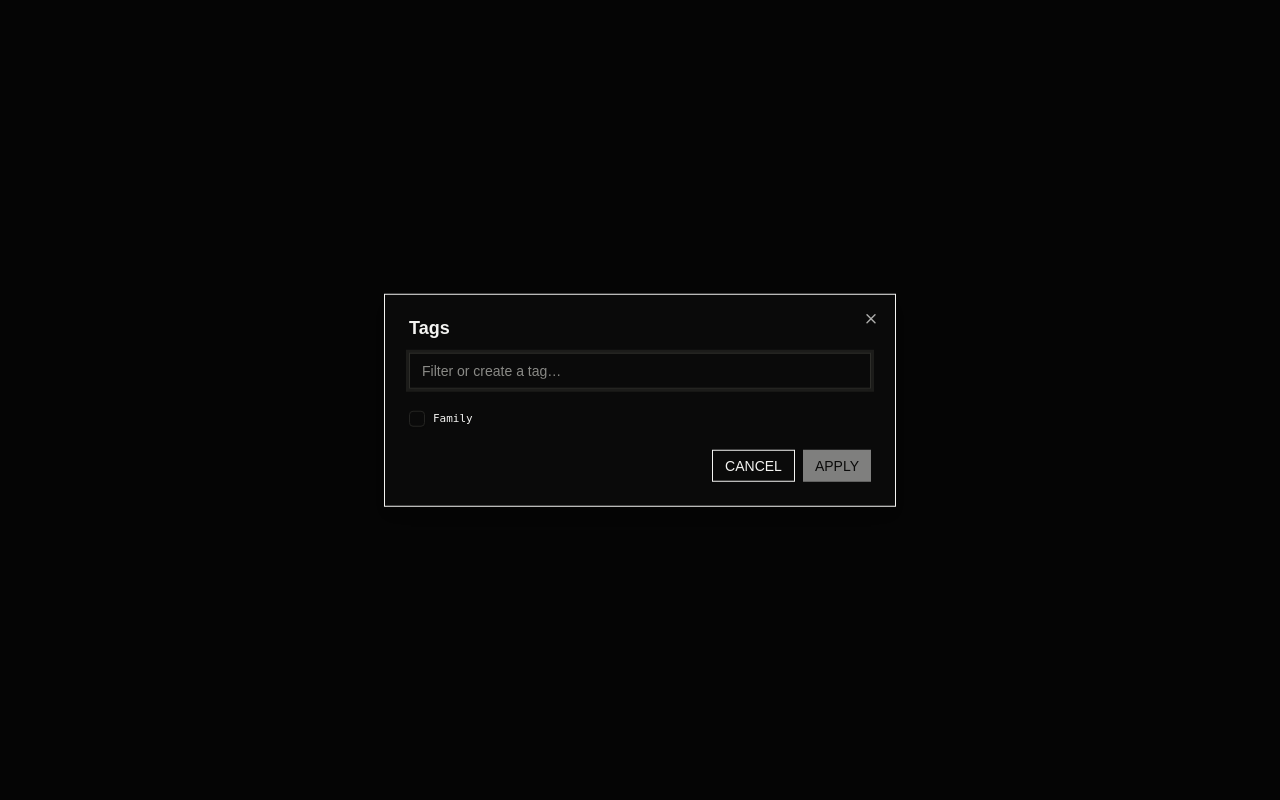
shows an inline error when apply fails and does not close
Click the checkbox. click: (417, 419)
box: [409,411,425,427]
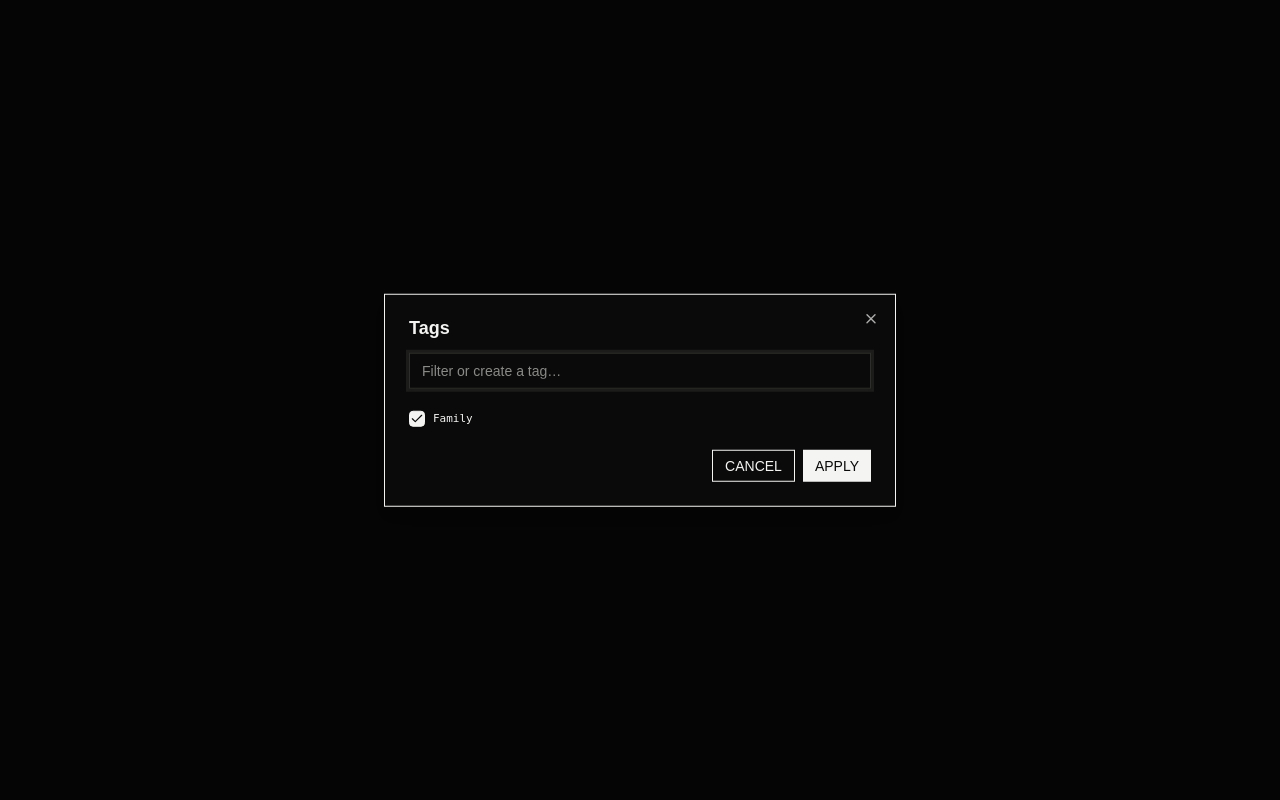
Click the button "APPLY". click: (837, 465)
box: [803,449,871,481]
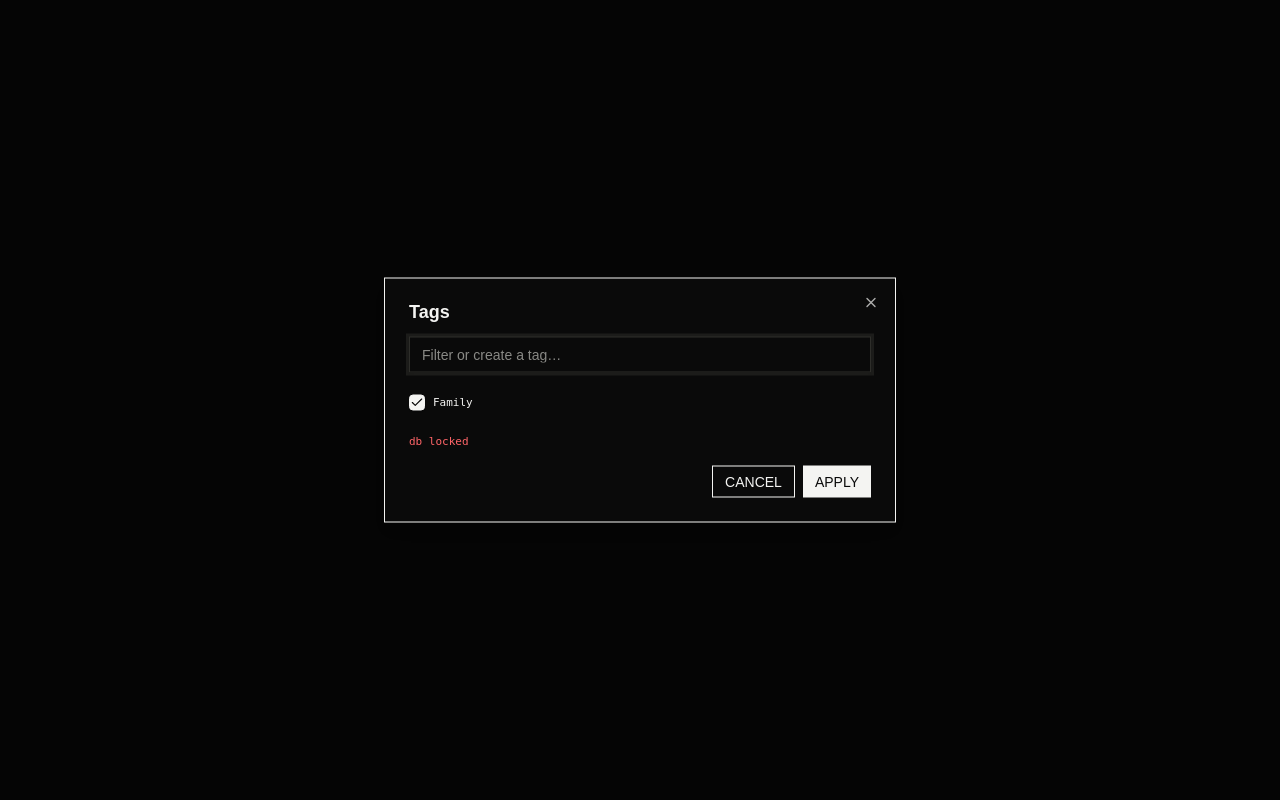
Expected: the text "db locked" is shown, [409,434,469,447]
